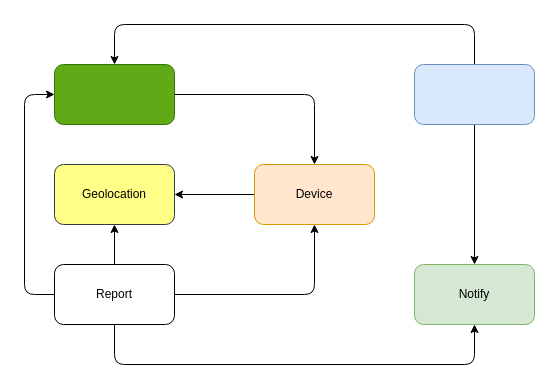
The diagram is 552 pixels wide and 390 high, and some of its shapes have lost their labels. Here are the shapes that lost their labels. From the top down, the centre of each, then its label:
At (114,94): "ClientService".
At (474,94): "Autorization".
